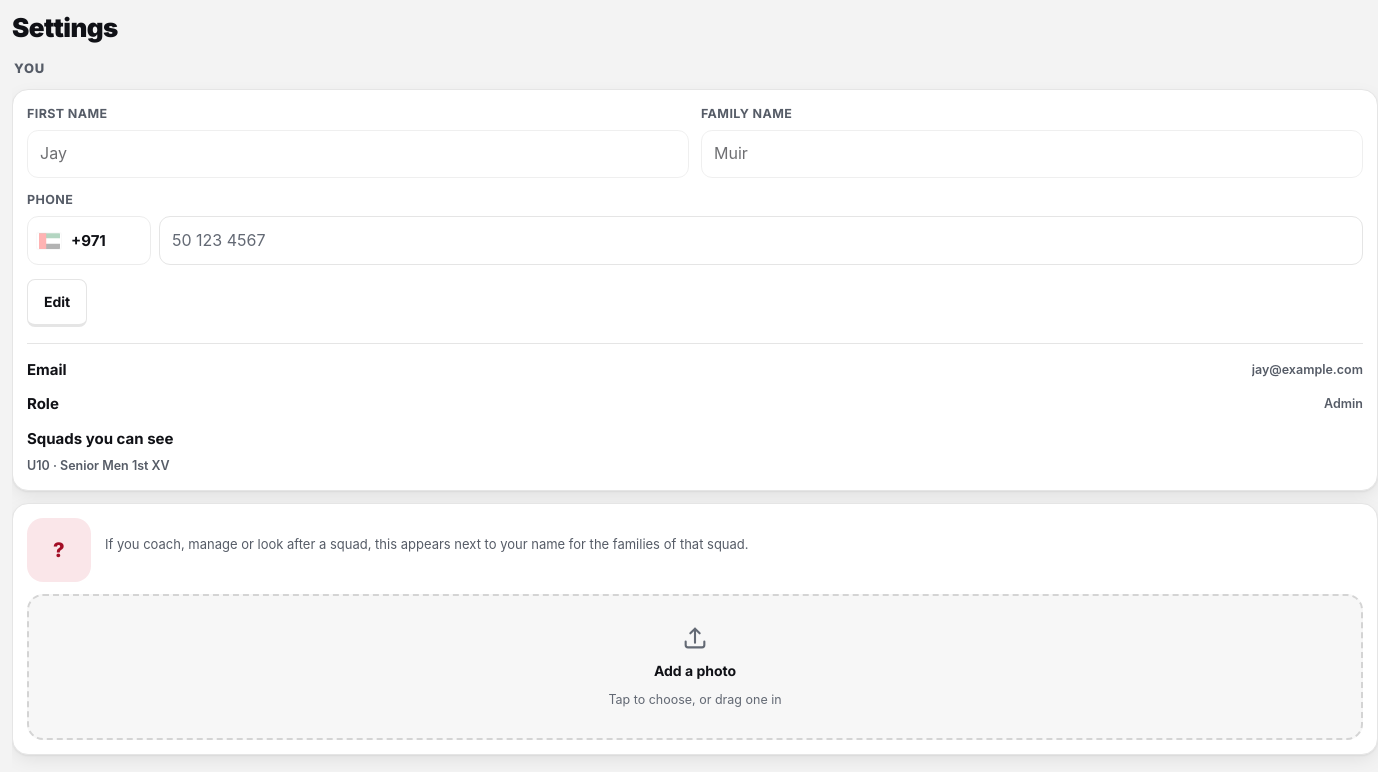
Test: More — the You card is editable › saves the name and phone the person typed, and says so
Click the button "Edit".
click(57, 303)  # box [27, 279, 87, 327]
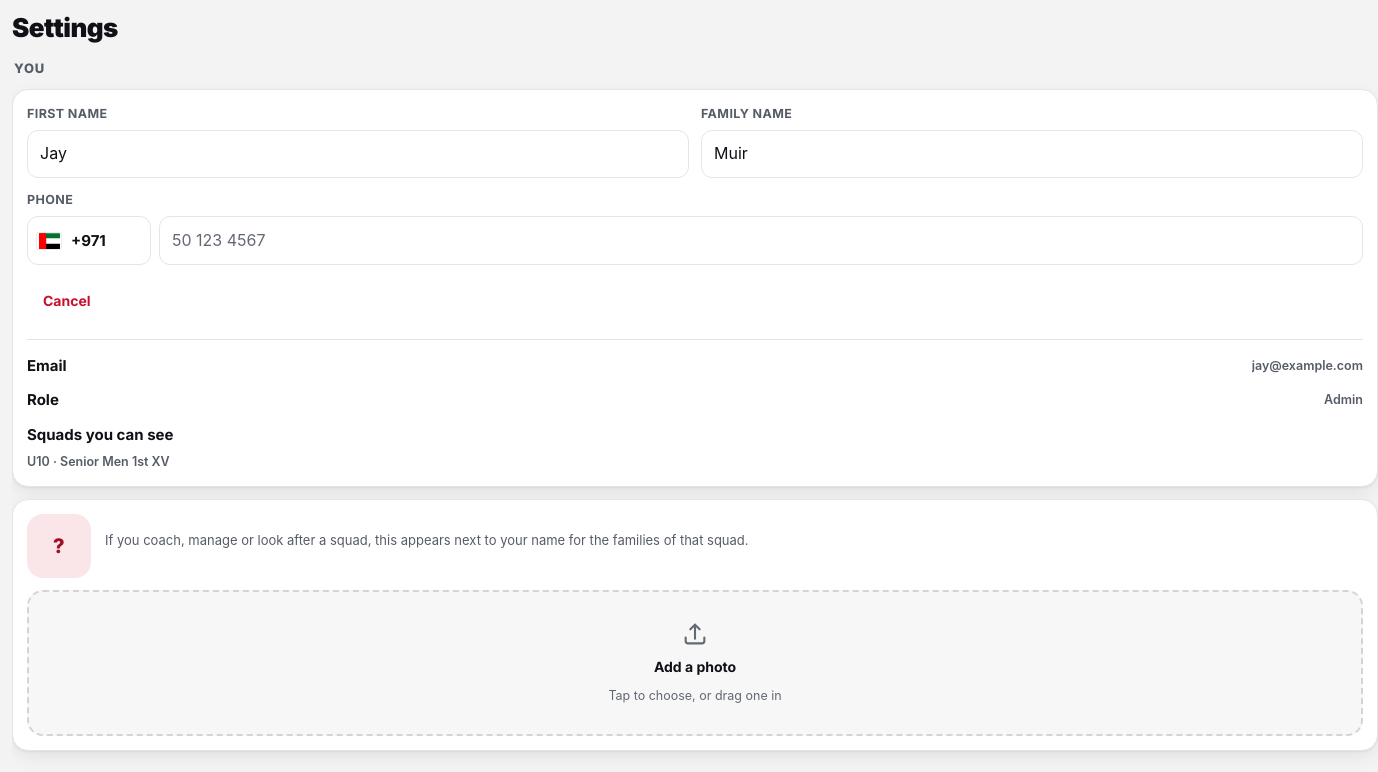
Replace the text in the field showing "Jay" with "Marisa" at (358, 154), box [27, 130, 689, 178]
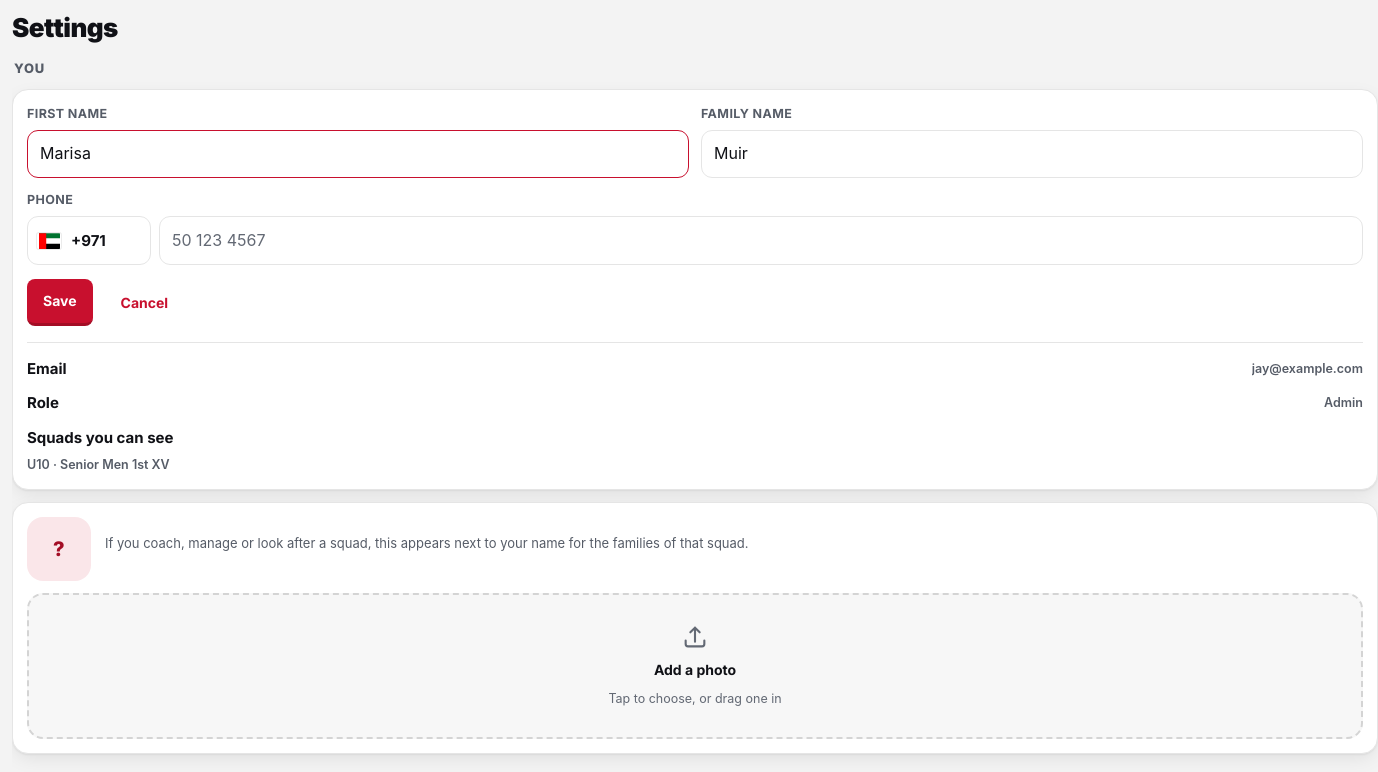
Replace the text in the field labelled "Family name" with "Bell" at (1032, 154), box [701, 130, 1363, 178]
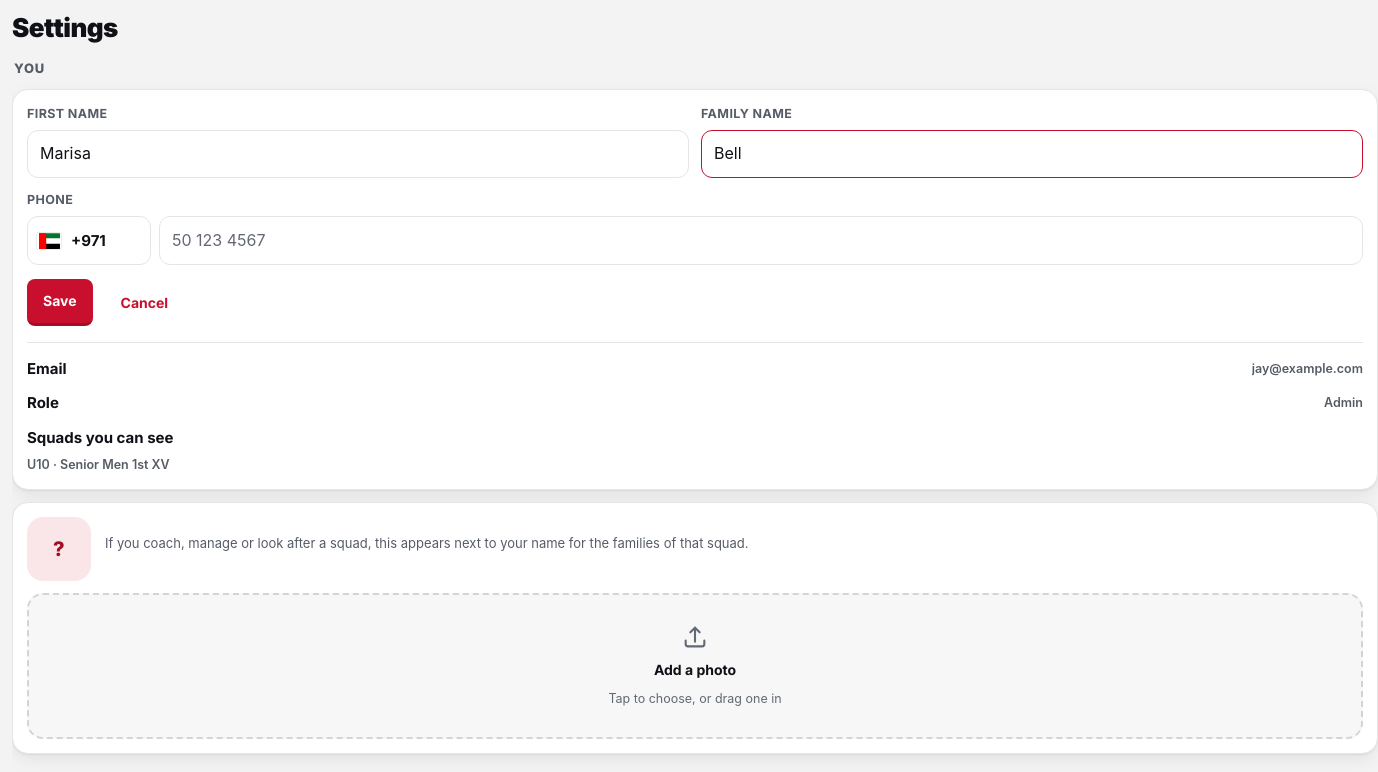
Type "501234567" into the field labelled "Phone".
click(761, 241); type("501234567")  # box [159, 216, 1363, 265]
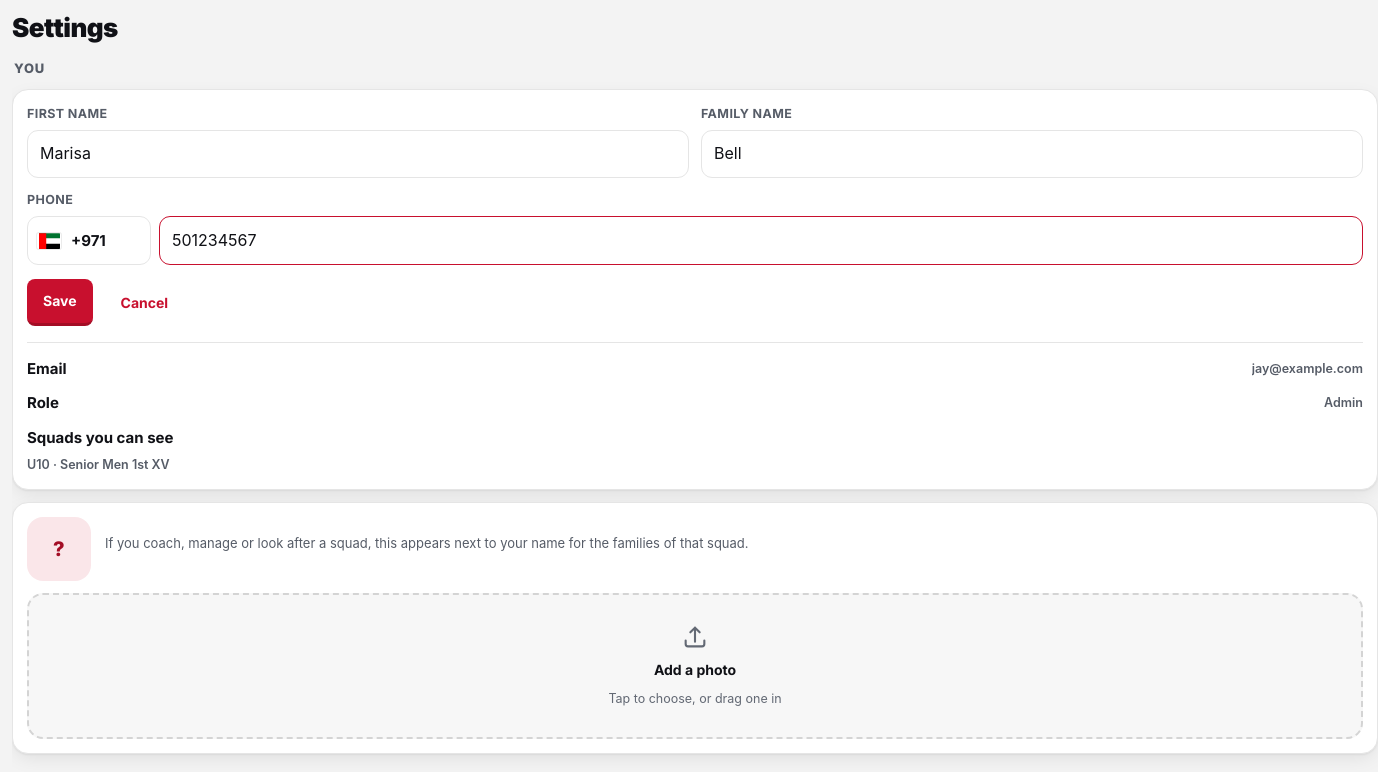
Click the button "Save".
click(60, 303)  # box [27, 279, 92, 326]
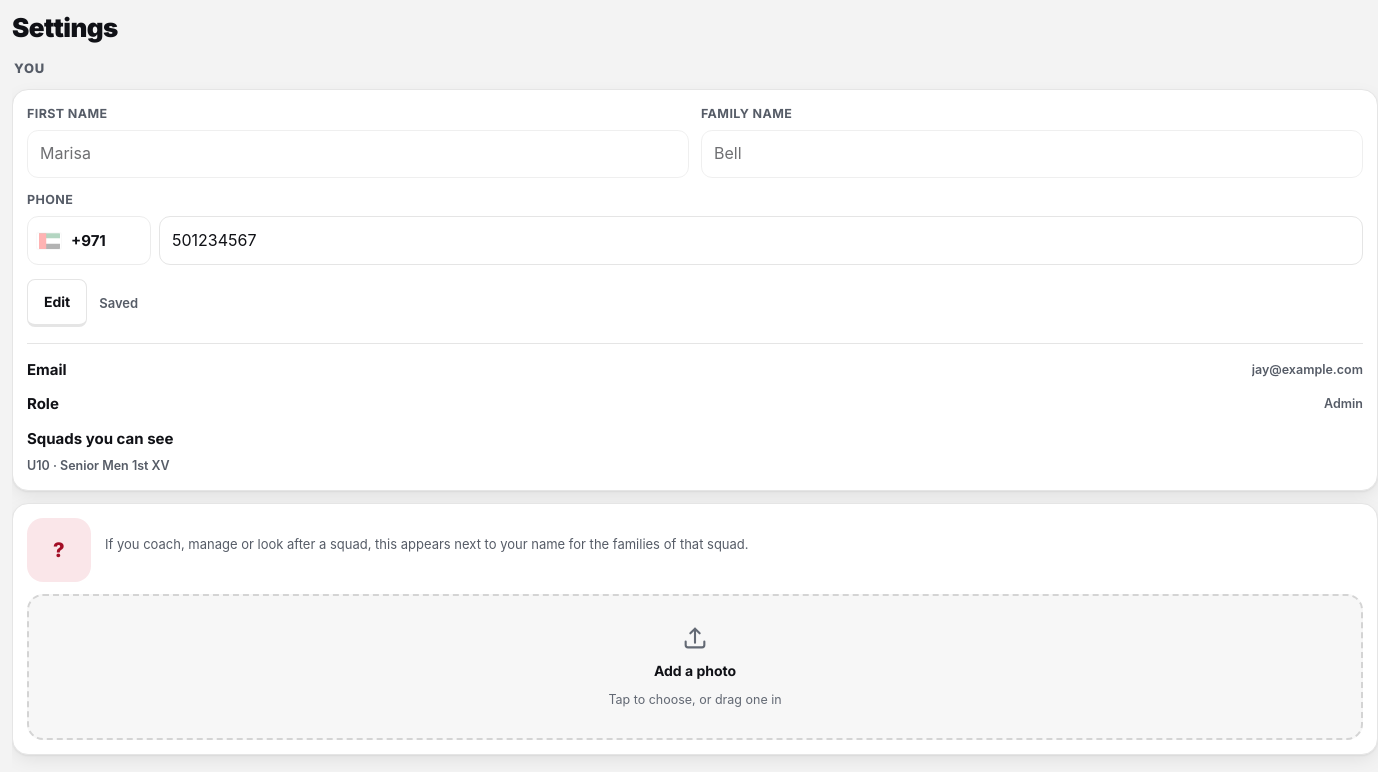
Now the text "Saved" is shown, box [99, 293, 138, 314]
